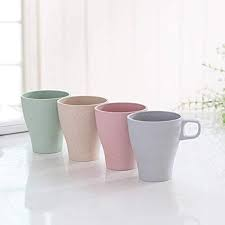plastic: (127, 111, 203, 183), (94, 102, 148, 171), (58, 95, 108, 163), (19, 90, 68, 155)
